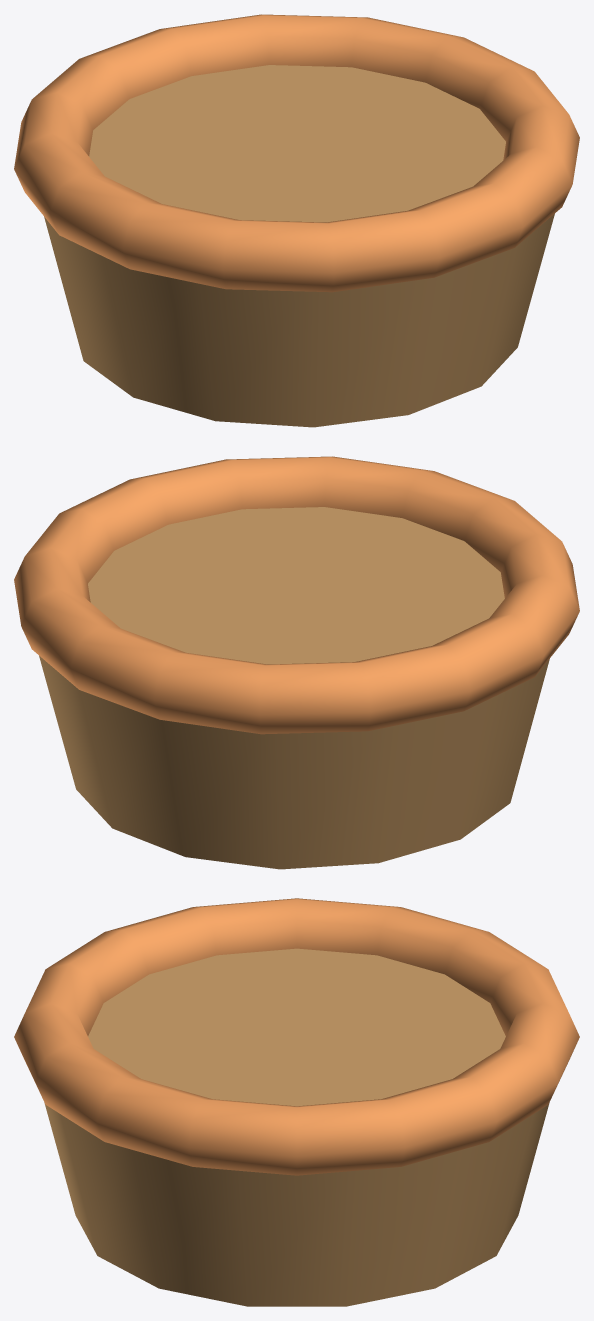
Rendered from nest_basket.glb.
3 views of the same model, one above another, from view 1: azimuth 30°, elevation 25°; view 2: azimuth 150°, elevation 25°; view 3: azimuth 270°, elevation 25° (orthographic).
Parts seen in each view (by area): view 1: nest_basket; view 2: nest_basket; view 3: nest_basket.
Boxes of the visible parts, x1=… form: nest_basket: x1=14, y1=14, x2=579, y2=427; nest_basket: x1=14, y1=456, x2=579, y2=869; nest_basket: x1=14, y1=898, x2=579, y2=1306.
Size of the model in its own units: 23 by 9.5 by 23.
